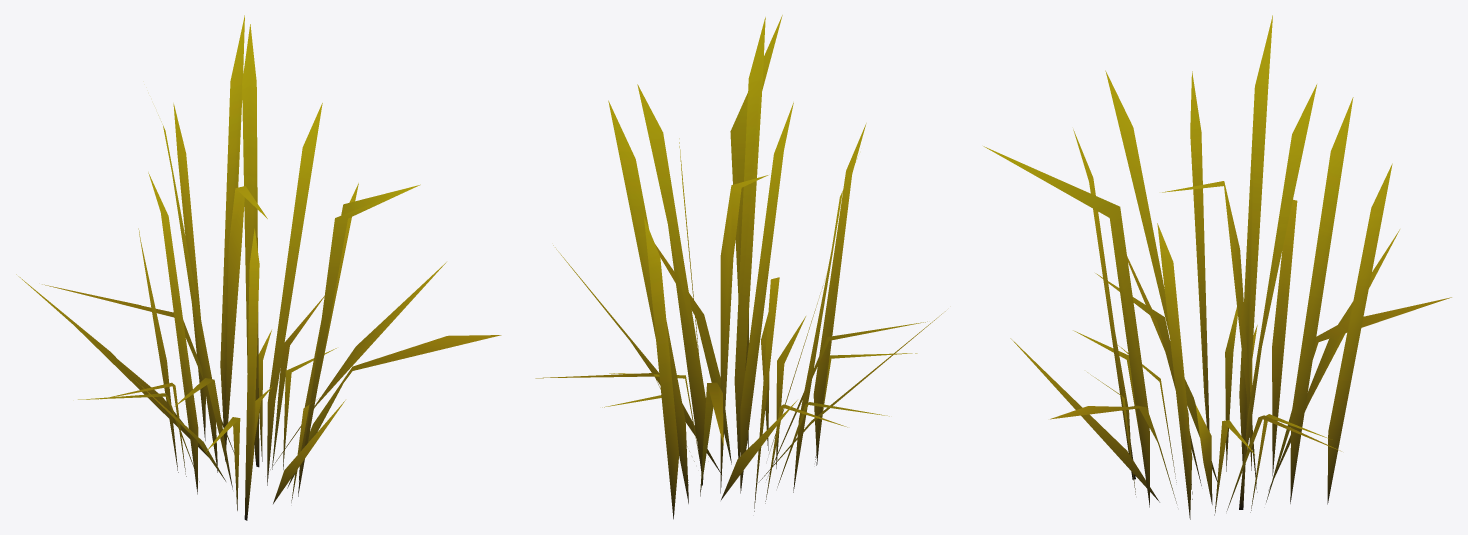
Rendered from Grass_Wispy_Tall@lod.gltf.
3 views of the same model, side by side, from view 1: azimuth 30°, elevation 25°; view 2: azimuth 150°, elevation 25°; view 3: azimuth 270°, elevation 25° (orthographic). The views are drawn at different scales.
Visible parts, largest first — view 1: Grass_Wispy_Tall; view 2: Grass_Wispy_Tall; view 3: Grass_Wispy_Tall.
Boxes of the visible parts, x1,y1,x2,y2 form: Grass_Wispy_Tall: (16, 15, 501, 520); Grass_Wispy_Tall: (535, 15, 945, 519); Grass_Wispy_Tall: (983, 15, 1451, 519).
Bounding box in the file's own units: 1.48 × 1.66 × 1.59.
Materials: 1 (1 with a texture image).
